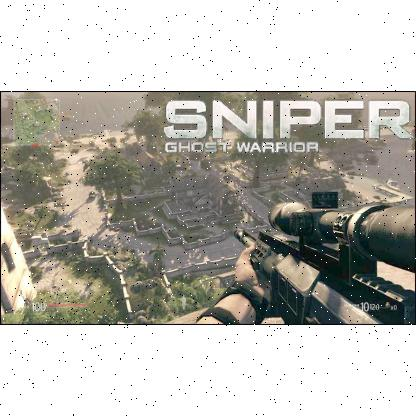gun: (233, 201, 414, 323)
